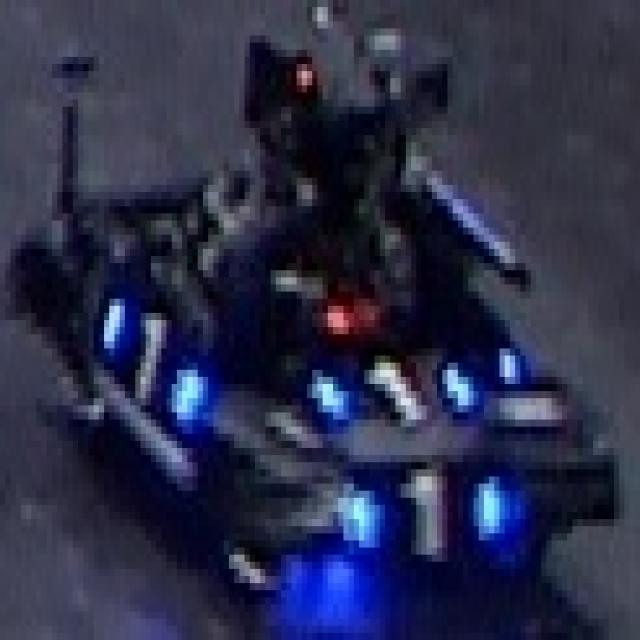B1: (344, 455, 515, 576), (99, 292, 218, 434), (312, 341, 474, 434)
